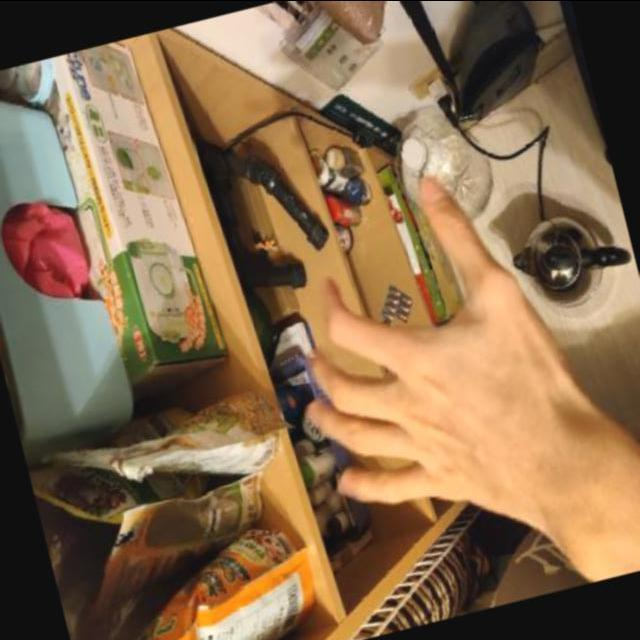hand: (238, 133, 640, 598)
